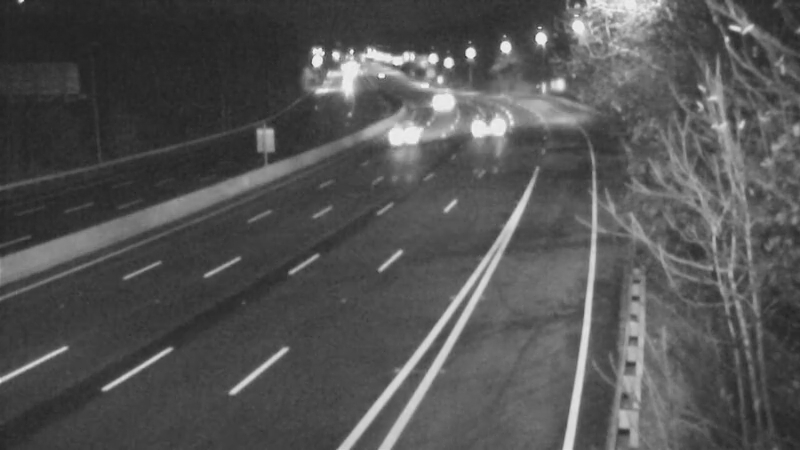vehicle: (417, 77, 467, 127), (462, 97, 512, 147), (390, 109, 440, 159)
